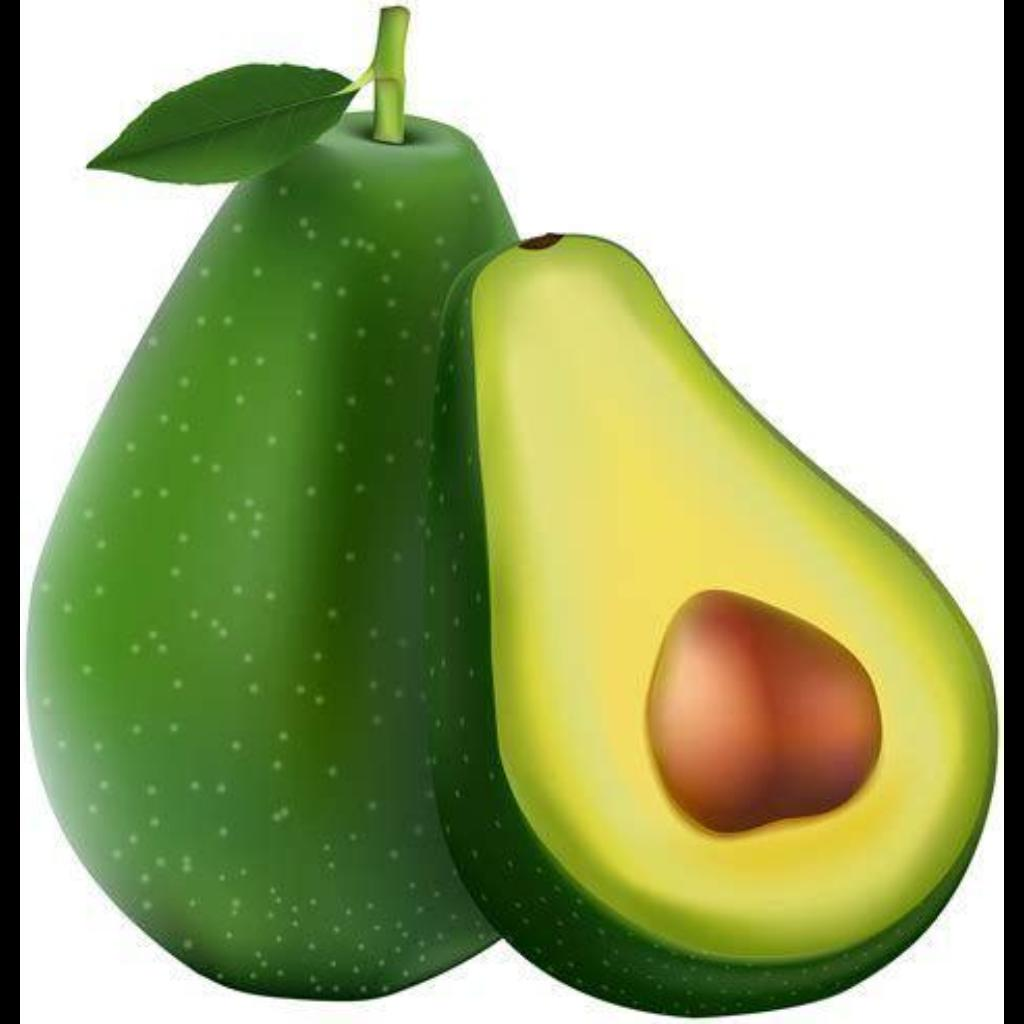Healthy: (46, 16, 994, 992)
